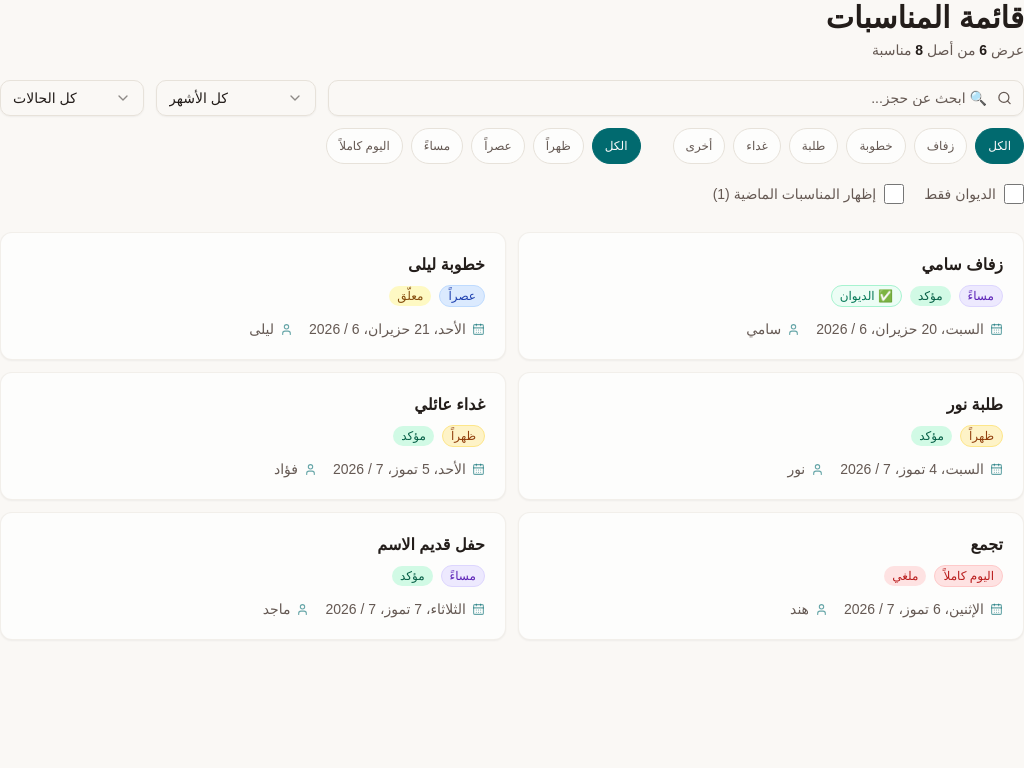
Test case: EventsPage › can show past events, counting only non-cancelled ones
Click the checkbox labelled "إظهار المناسبات الماضية (1)" at (894, 194), box [884, 184, 904, 204]
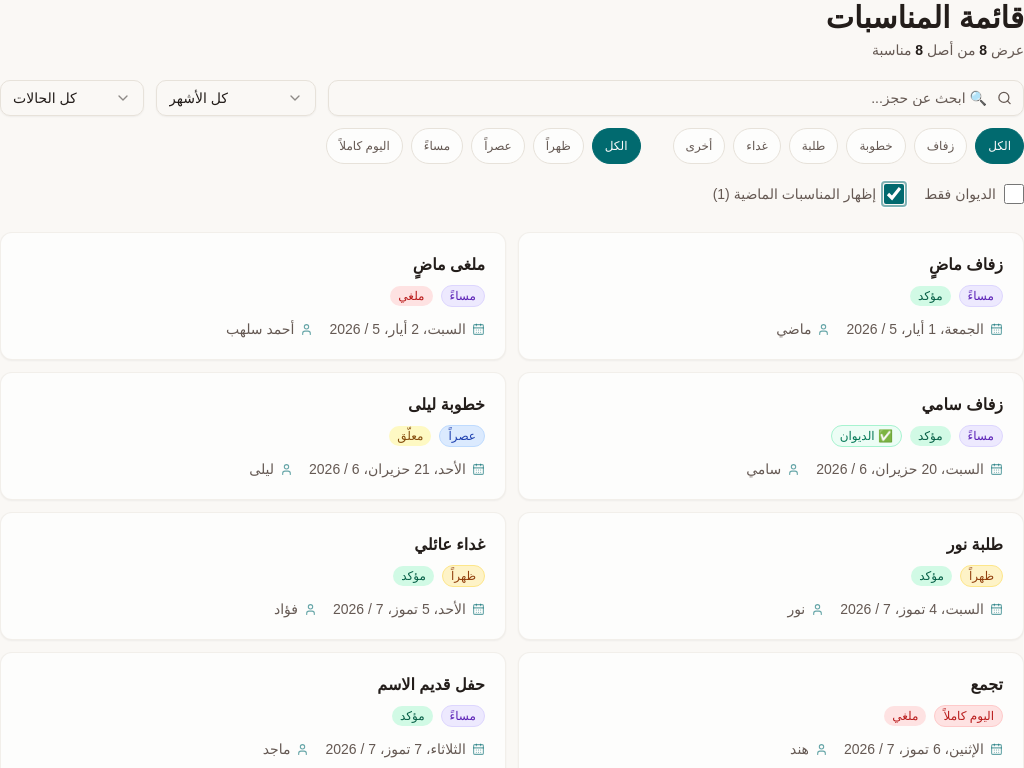
Check: the heading "زفاف ماضٍ" is shown, box [929, 256, 1003, 273]
Check: the heading "ملغى ماضٍ" is shown, box [413, 256, 485, 273]
